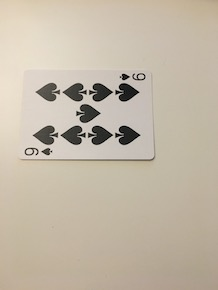NineOfSpades: (9, 58, 171, 171)
